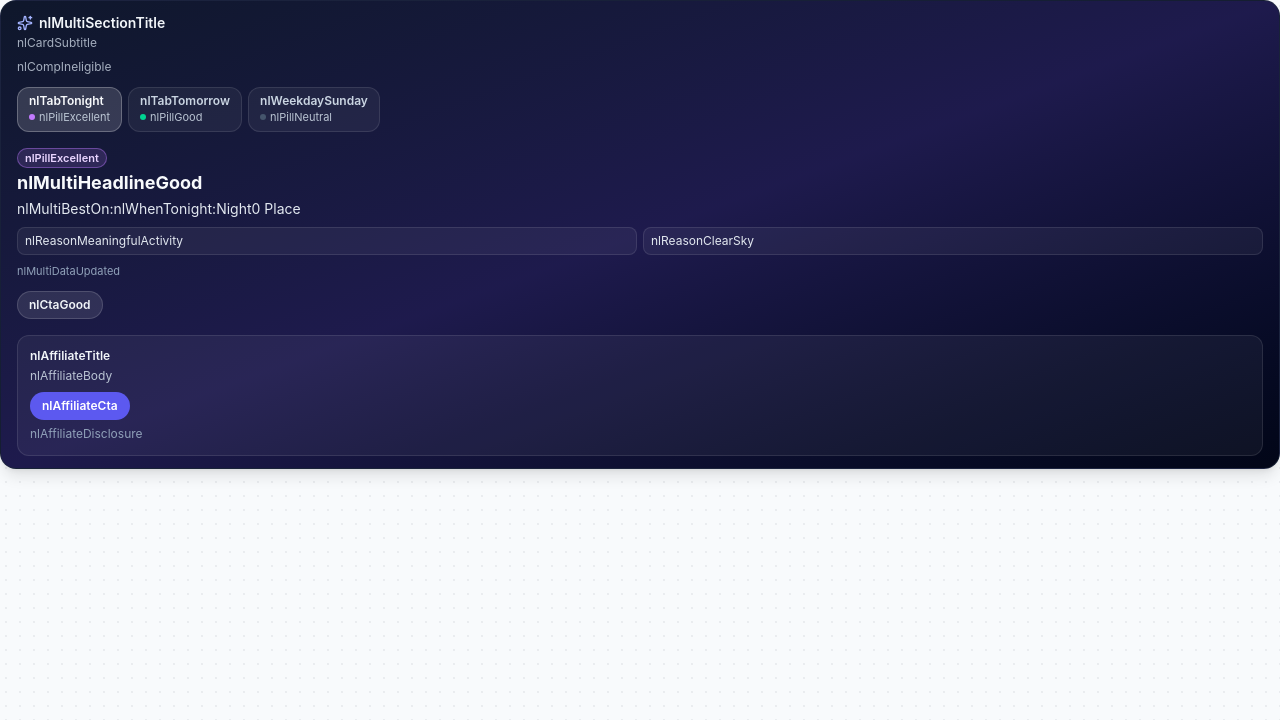
Test: NorthernLightsThreeNight — details-expanded preference persists across night switches › expanding details on one night keeps details expanded when switching to a different (still-qualifying) night, showing THAT night's own content
Check: the element with test id "nl3-result" is shown, box 17,144 -> 1263,319
Click the button "nlCtaGood".
click(60, 305)  # box 17,291 -> 103,319
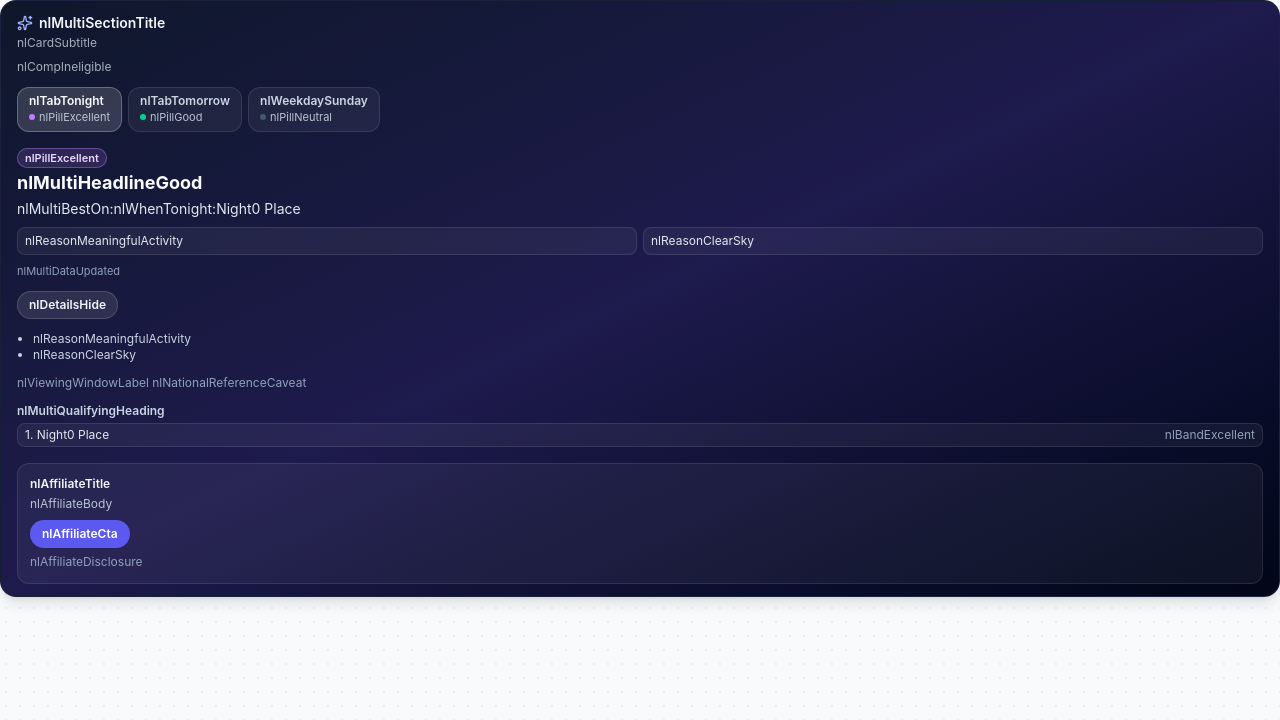
Check: the text "Night0 Place" is shown, box 17,200 -> 301,216
Click the button "nlTabTomorrow nlPillGood".
click(185, 109)  # box 128,87 -> 242,132
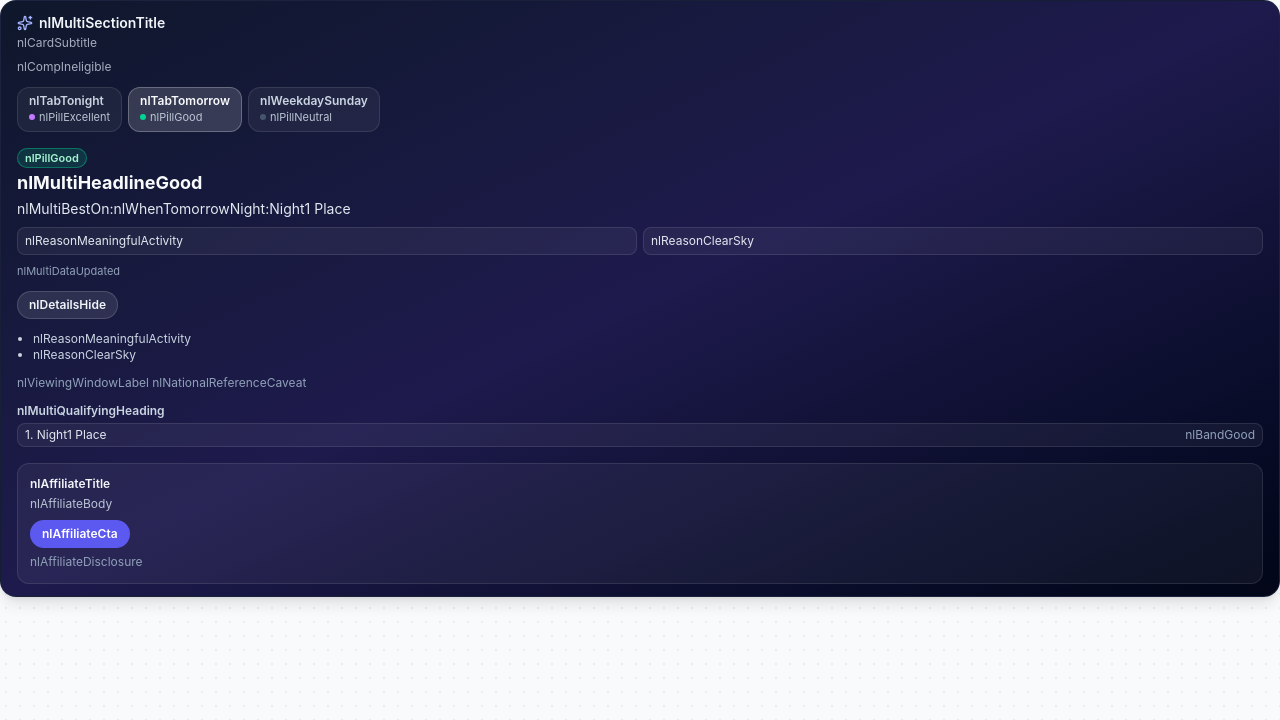
Check: the button "nlDetailsHide" is shown, box 17,291 -> 118,319
Check: the text "Night0 Place" is gone
Check: the text "Night1 Place" is shown, box 17,200 -> 351,216
